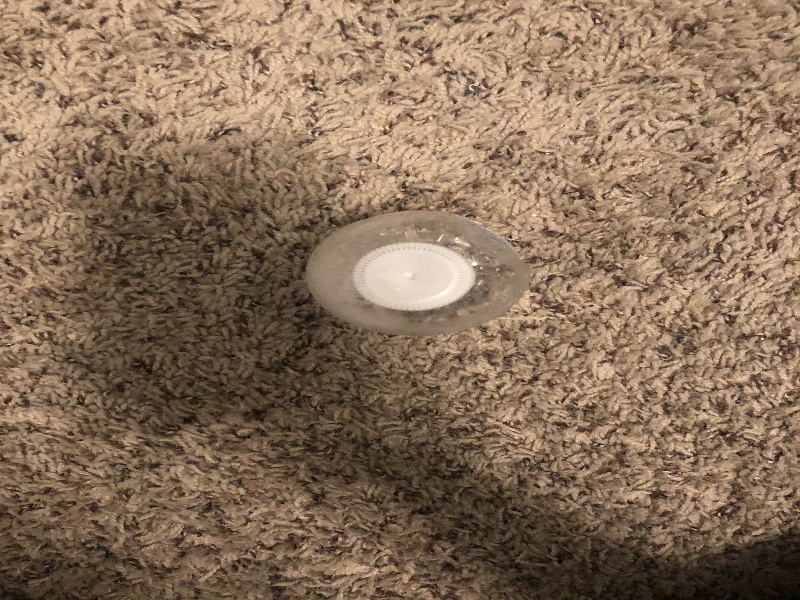plastic: (303, 205, 534, 346)
